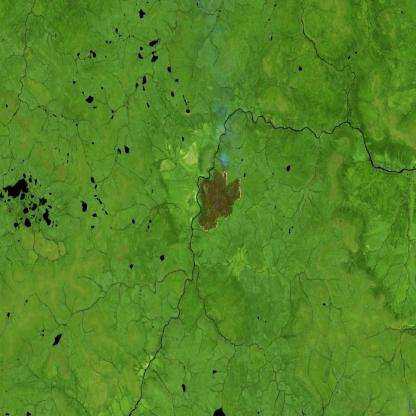fire: (195, 162, 246, 236)
